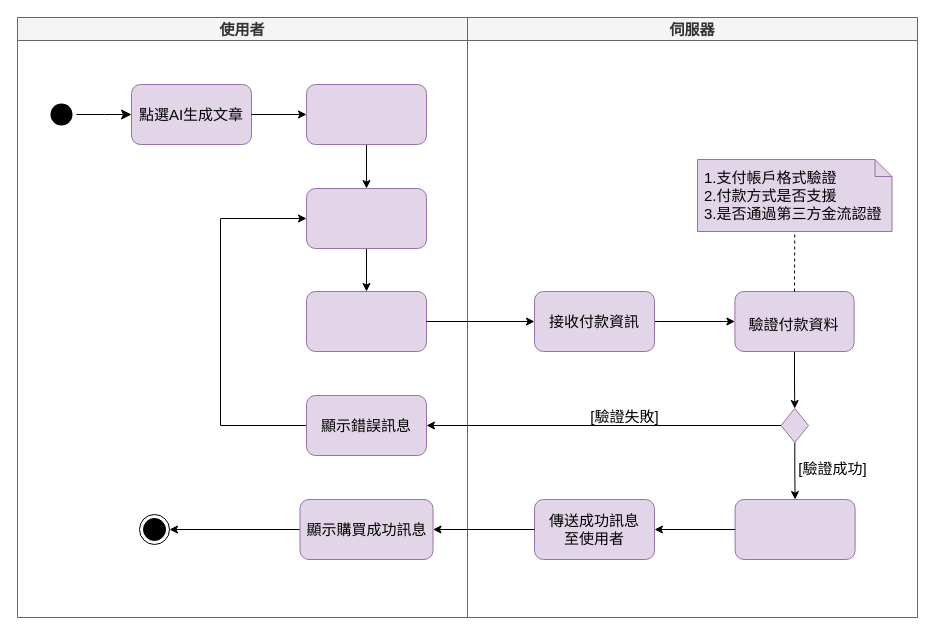
This 935x635 diagram has some shape labels left out. Here are the shapes that lost their labels. From the top down, the centre of each, then its label:
(366,114): 點選購買點數
(366,218): 選擇方案並 輸入付款資訊
(366,321): 確認付款
(794,529): 更新使用者點數
